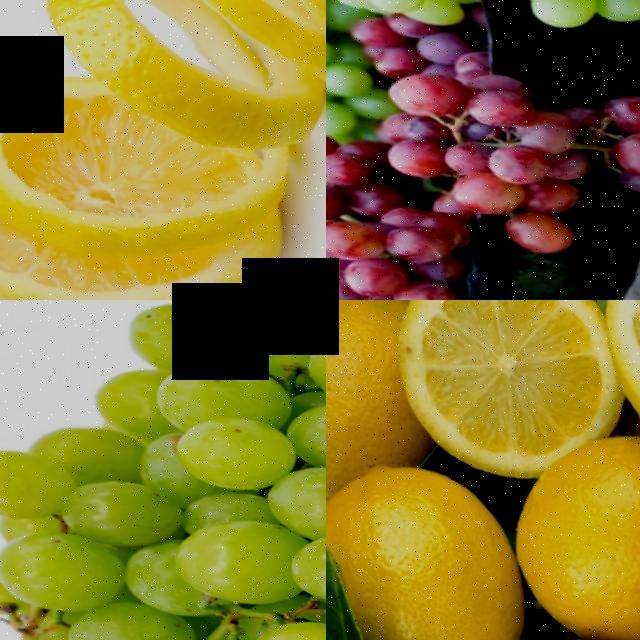grapes: (0, 300, 326, 640), (375, 67, 640, 264), (326, 128, 446, 300)
lemon: (0, 110, 281, 300), (330, 461, 517, 640), (391, 300, 617, 441), (499, 432, 640, 640), (326, 300, 414, 476)
